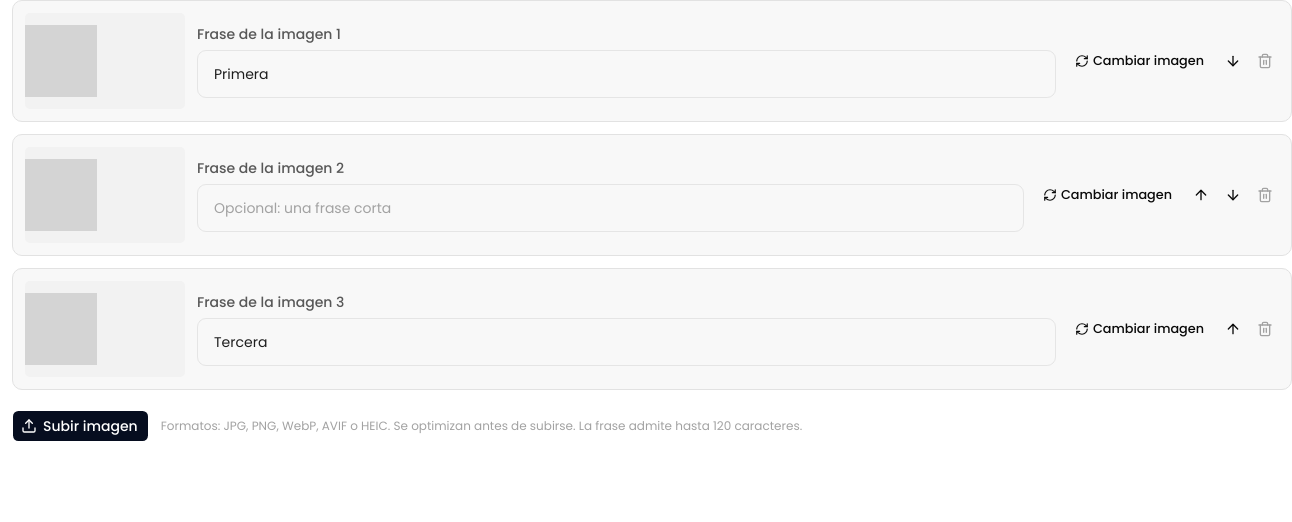
Test case: editing a caption › shows the reason when the caption cannot be saved
Replace the text in the field labelled "Frase de la imagen 1" with "Otra frase" at (626,74), box [197,50,1056,98]
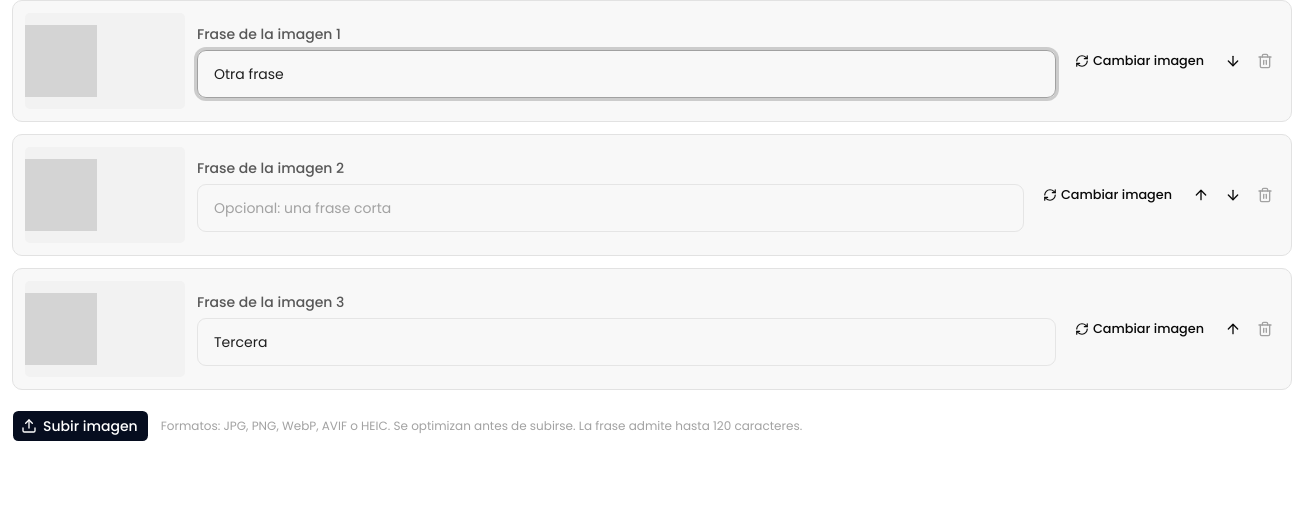
Press Tab
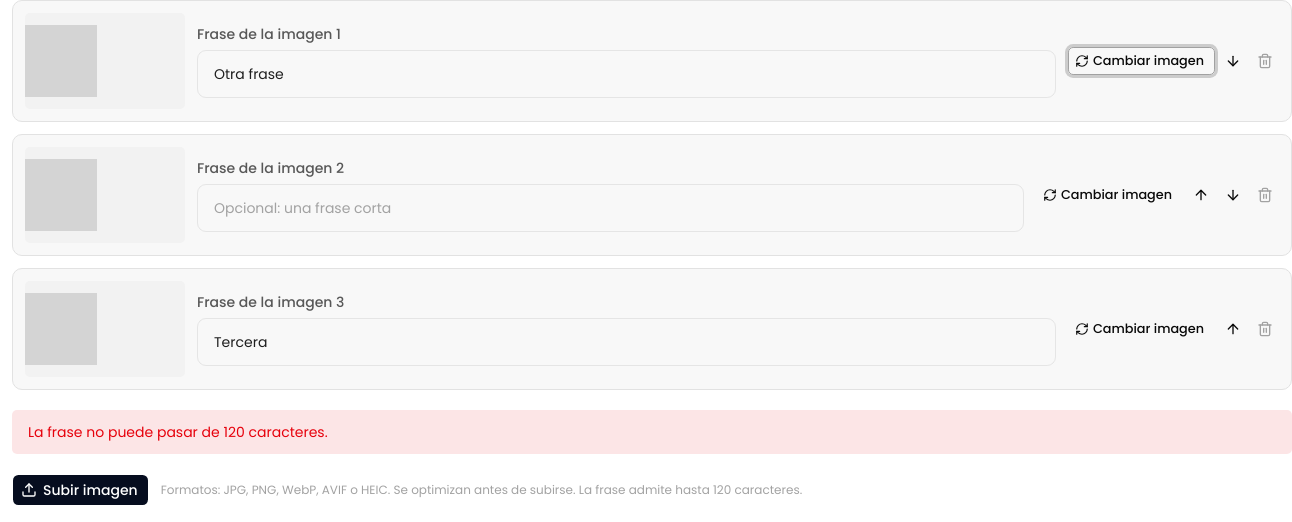
Check: the message reads "La frase no puede pasar de 120 caracteres.", box [28,422,328,442]
